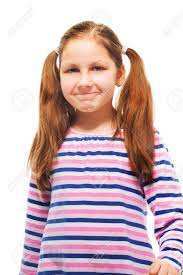person: (57, 21, 124, 114)
